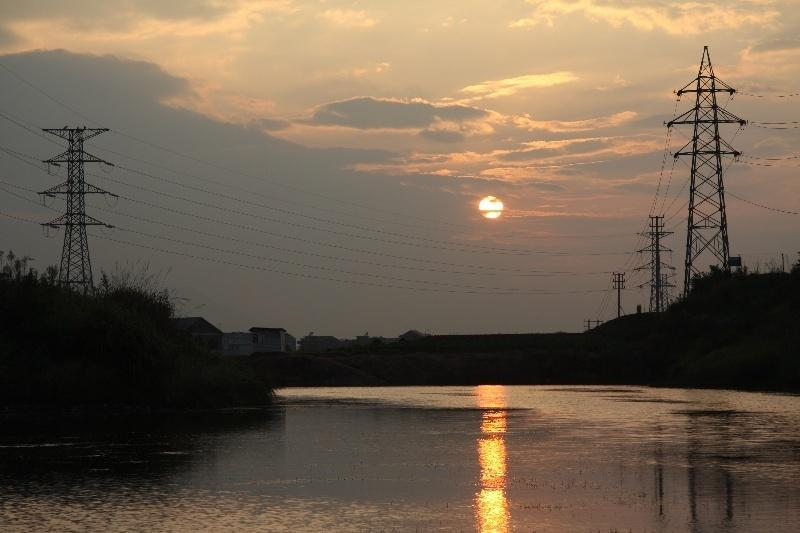power_tower: (667, 45, 746, 304), (40, 126, 118, 297), (636, 231, 676, 315)
